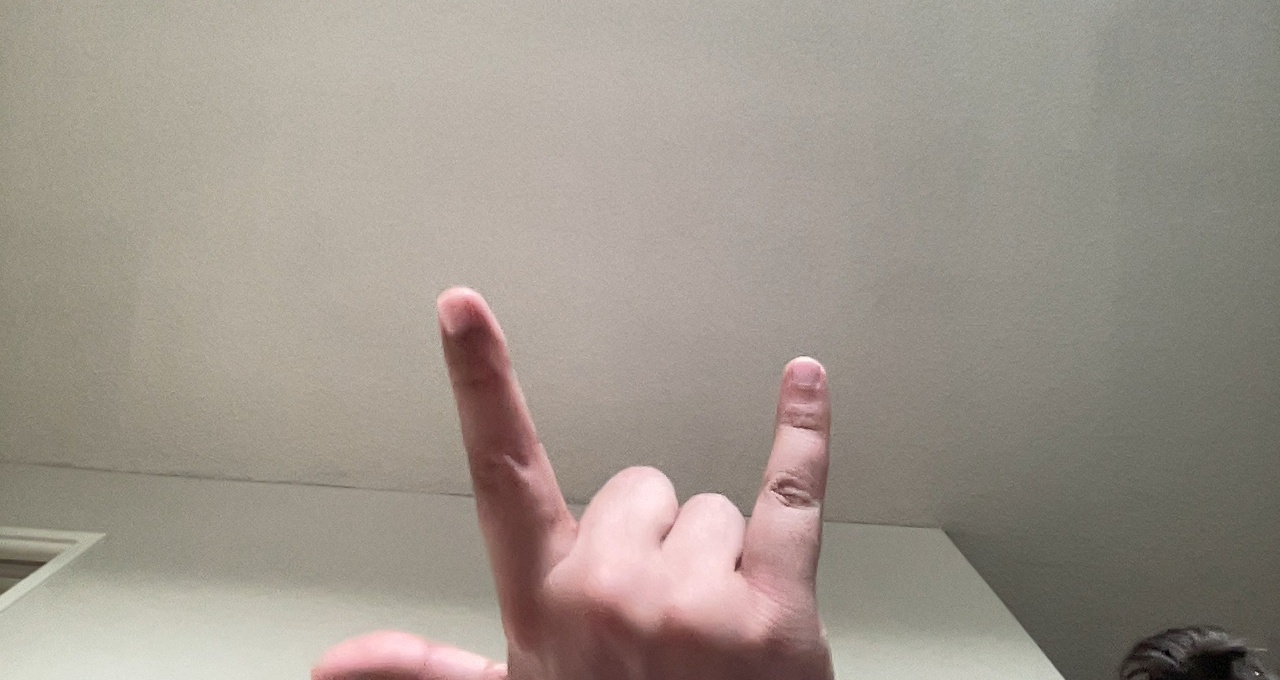rockon sign: (286, 252, 838, 680)
